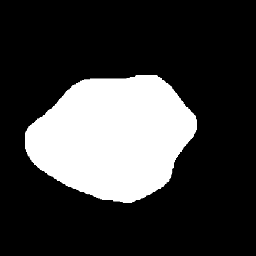mass: (35, 78, 171, 184)
